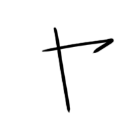ya: (38, 25, 118, 115)
